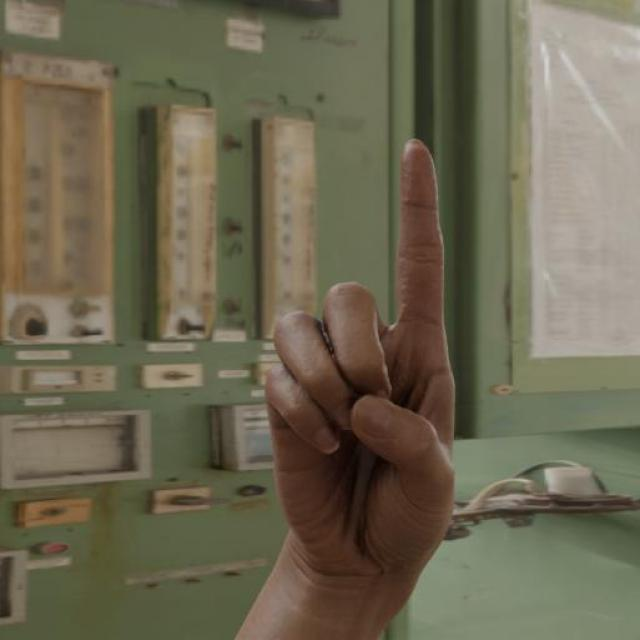D: (259, 123, 546, 587)
